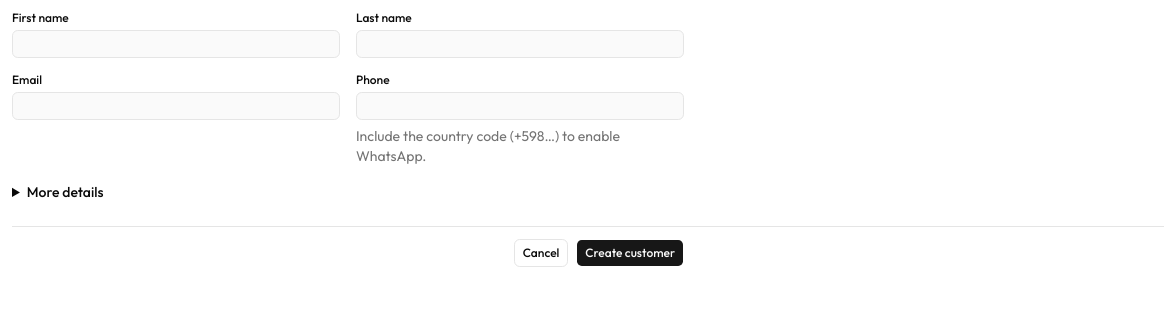
Scenario: CustomerForm › falls back to a generic message for unknown error codes
This screenshot has width=1164, height=310.
Step 1. Click the button "Create customer" → coordinates (630, 253), box top-left (576, 239), bottom-right (684, 267)
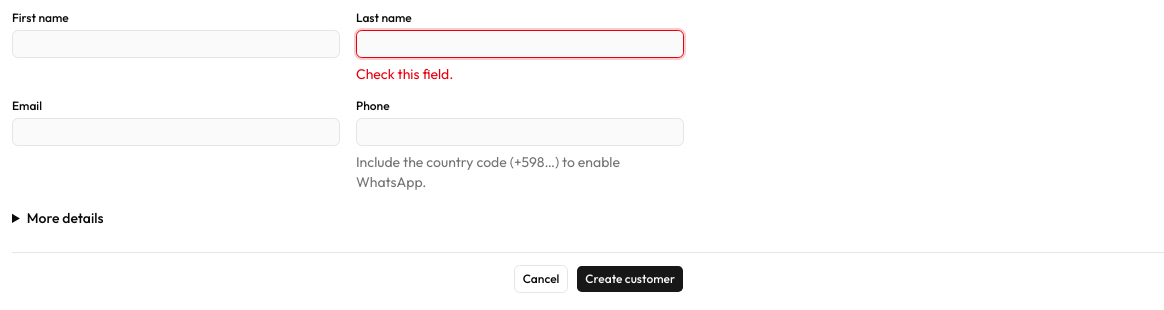
Now the text "Check this field." is shown, box top-left (356, 65), bottom-right (453, 83)
